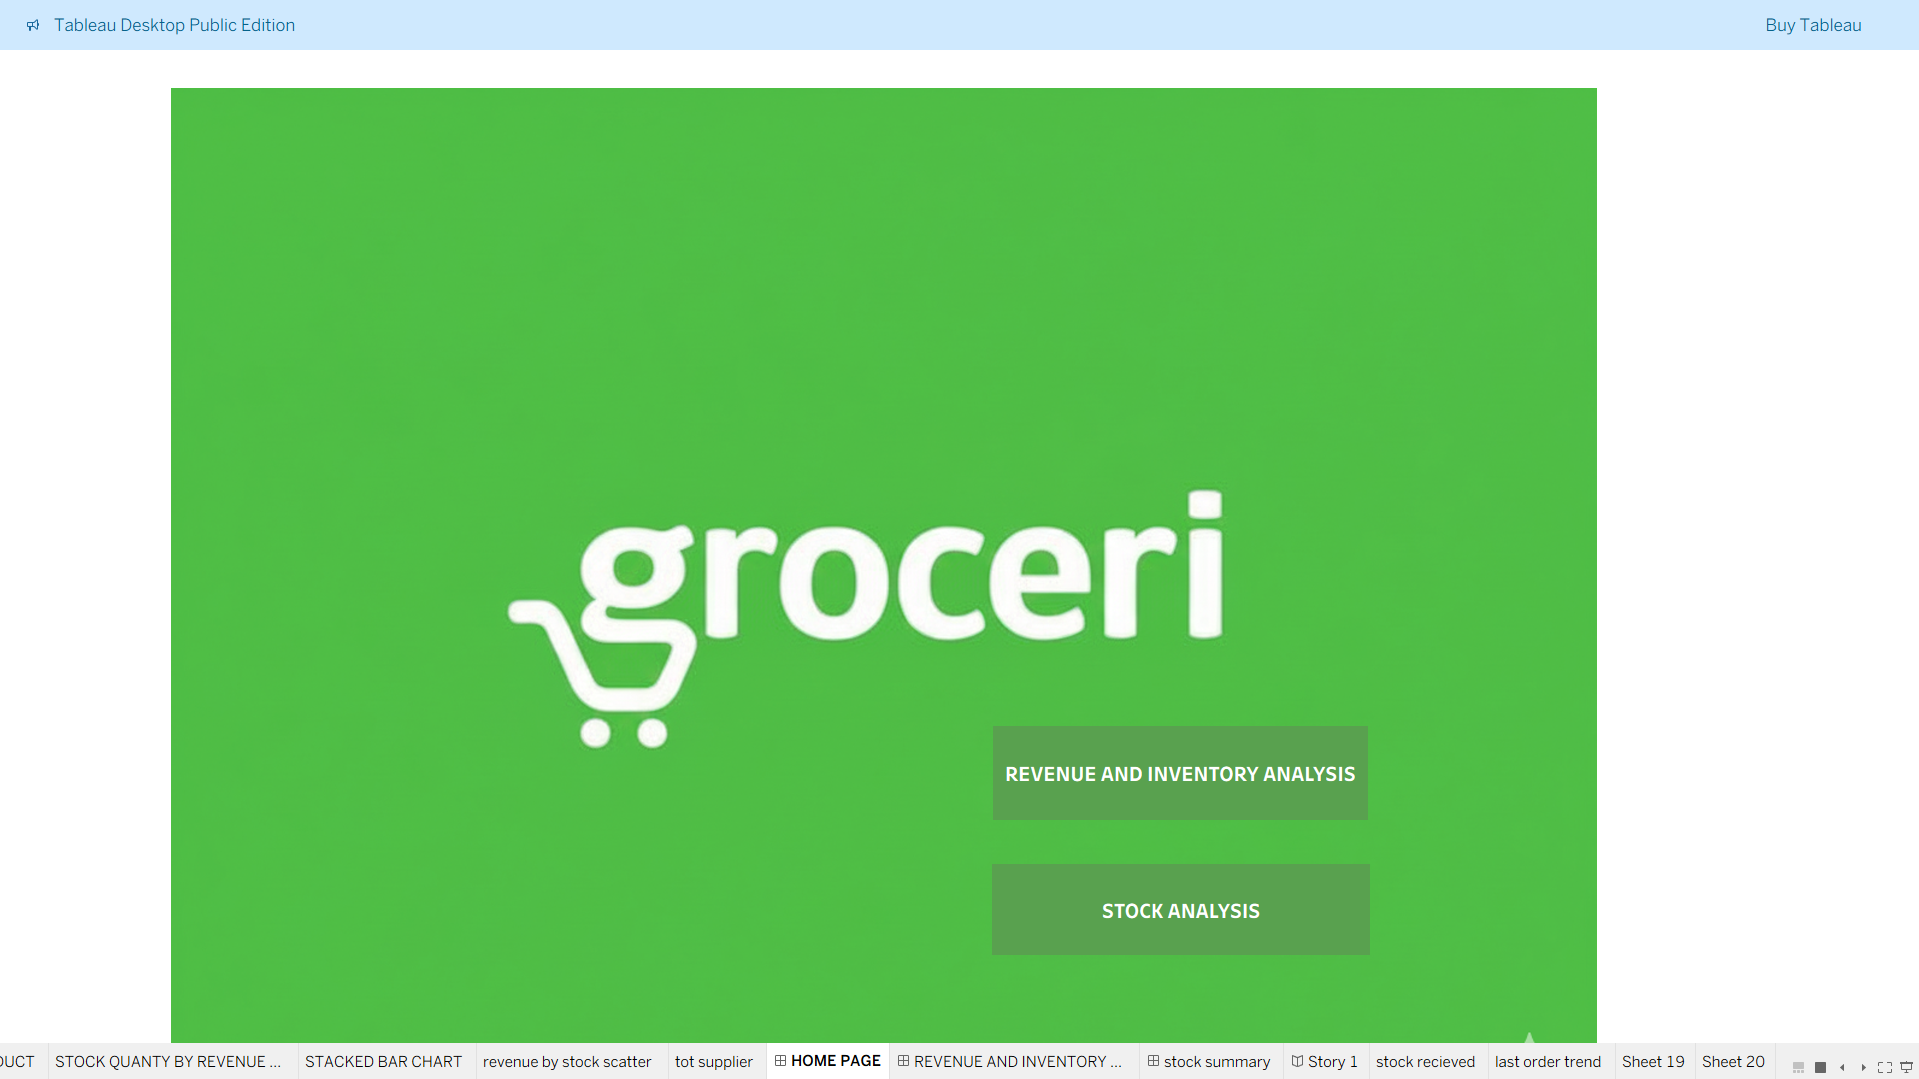

What the dashboard file says about the page in this screenshot:
{"tool":"tableau","page":{"name":"HOME PAGE","canvas":[1000,1000],"units":"permille","ordinal":0},"visuals":[{"type":"dashboard-object","box":[519.2,709.6,218,109.5]},{"type":"dashboard-object","box":[518.6,870.1,219.8,105.7]}]}

Visuals, with their boxes on the dashboard's canvas, which has no fixed pixel size, in thousandths of its width and height (x1, y1, x2, y2). These are canvas units, not pixel positions in the 1919x1079 screenshot, which may show the page scaled, cropped or inside an application window:
dashboard-object: BBox(519, 710, 737, 819)
dashboard-object: BBox(519, 870, 738, 976)
